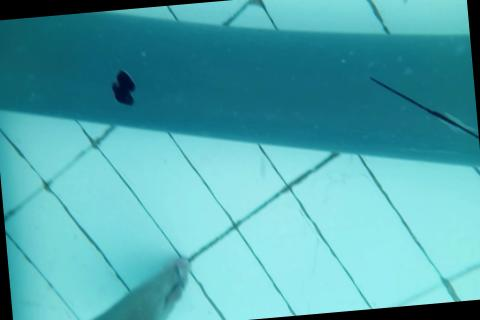kebocoran: (109, 68, 137, 109)
keretakan: (369, 66, 479, 148)
